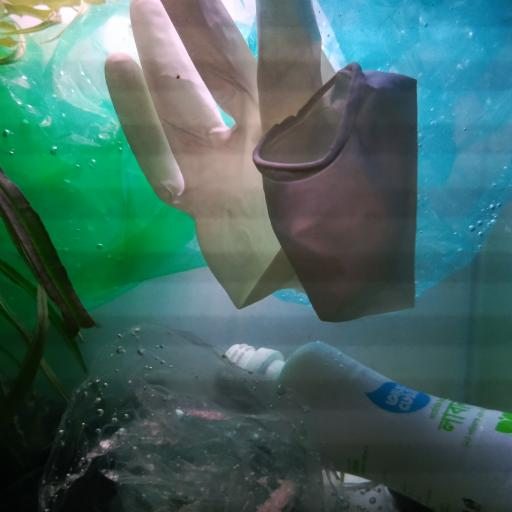glove: (105, 0, 414, 323)
plastic_bag: (241, 0, 512, 310), (0, 0, 207, 337), (38, 322, 397, 512)
plastic_bottle: (221, 339, 512, 512)
